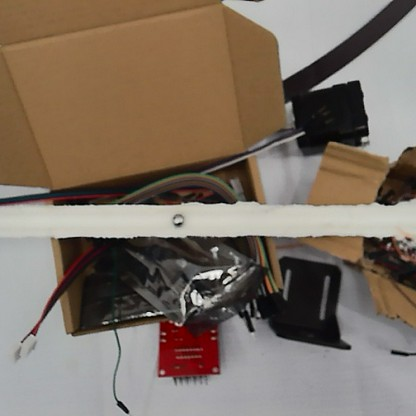ironball: (169, 211, 183, 228)
